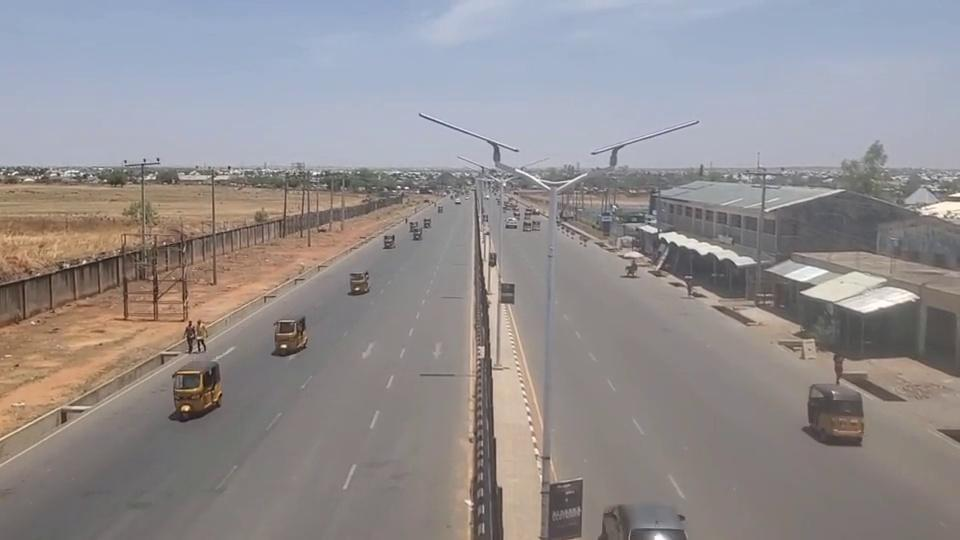car: (602, 500, 688, 540), (505, 217, 518, 229)
keke: (806, 382, 864, 443), (171, 360, 222, 417), (273, 316, 307, 355), (349, 270, 370, 294), (384, 233, 396, 249), (413, 227, 422, 240), (408, 221, 418, 232), (523, 220, 531, 232), (532, 221, 540, 231), (424, 218, 431, 228)
